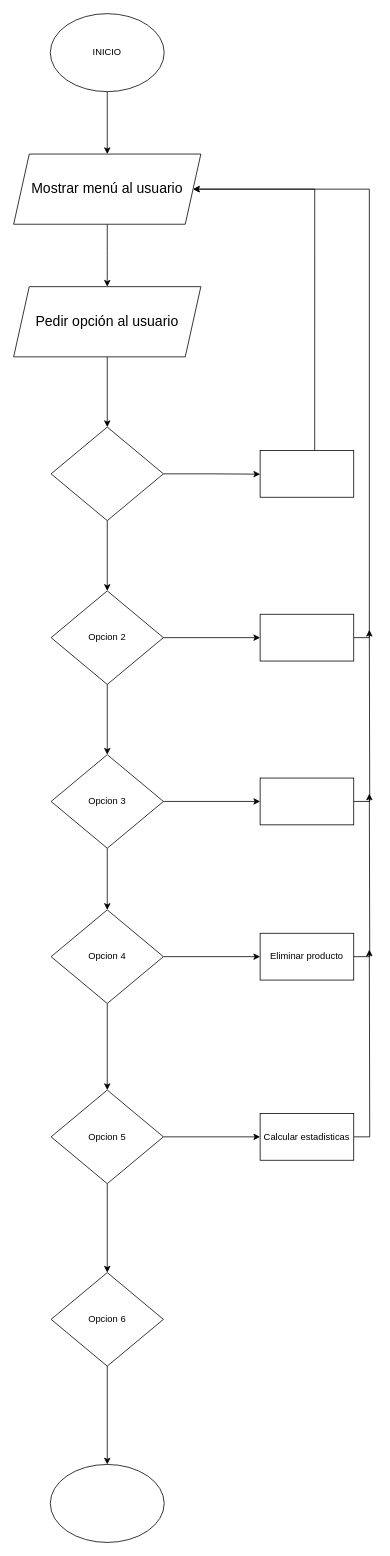
Some shapes in this 390 by 1556 pixel diagram are drawn without their labels. Each missing label, with the box of its shape:
Actualizar producto: (259, 777, 354, 825)
Agregar producto: (259, 450, 354, 497)
FIN: (50, 1464, 164, 1542)
Mostrar inventario: (259, 613, 354, 661)
Opcion 1: (50, 426, 163, 521)
